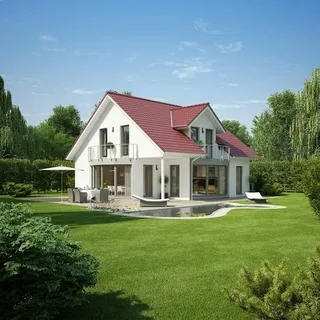private_hause: (66, 90, 258, 203)
